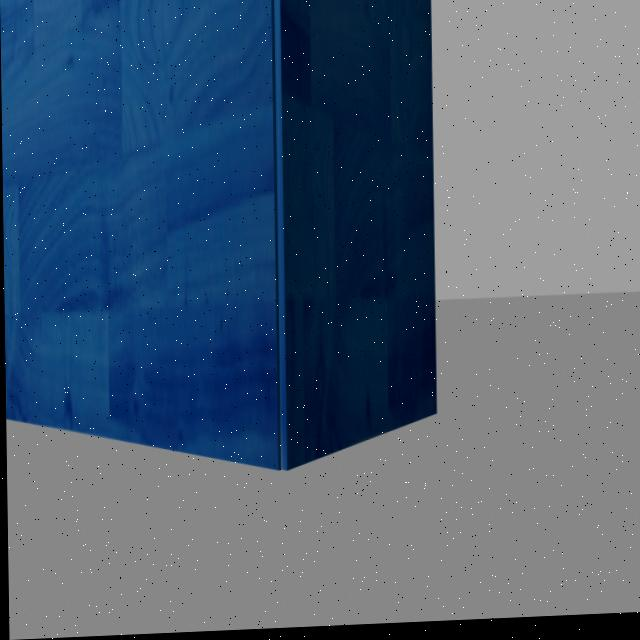shelf: (0, 0, 443, 490)
